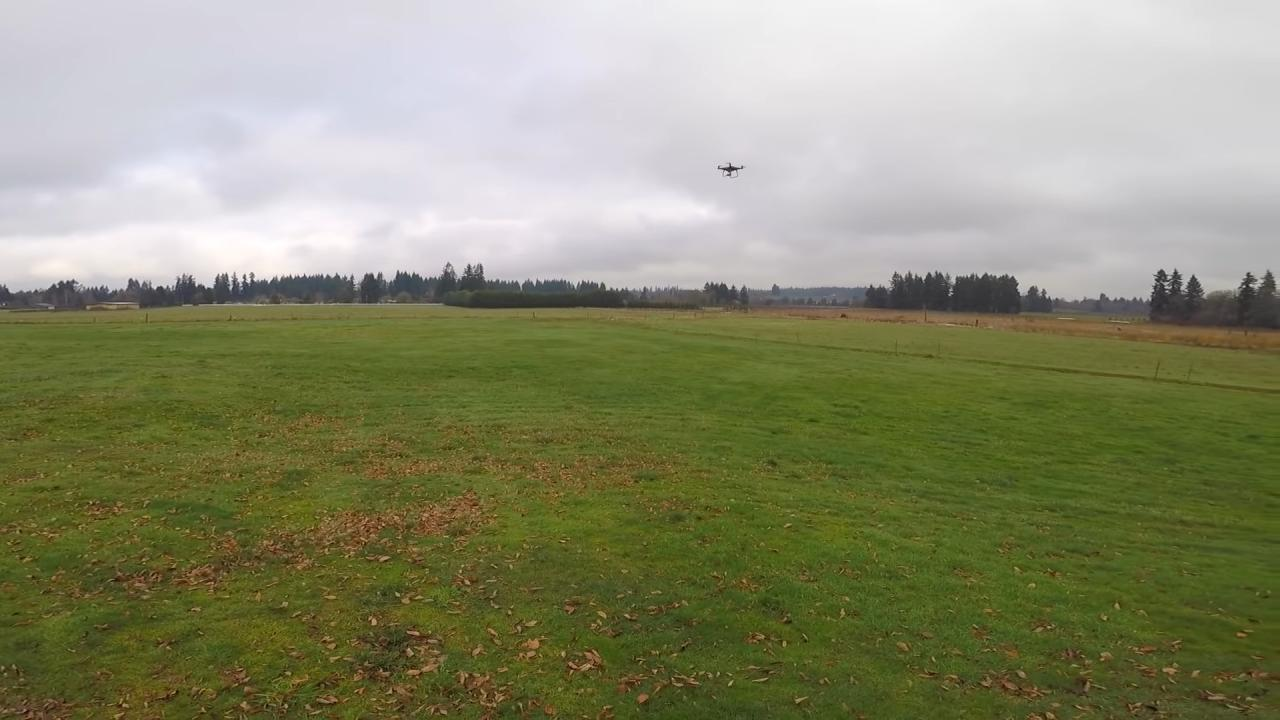Drone: (711, 154, 752, 187)
